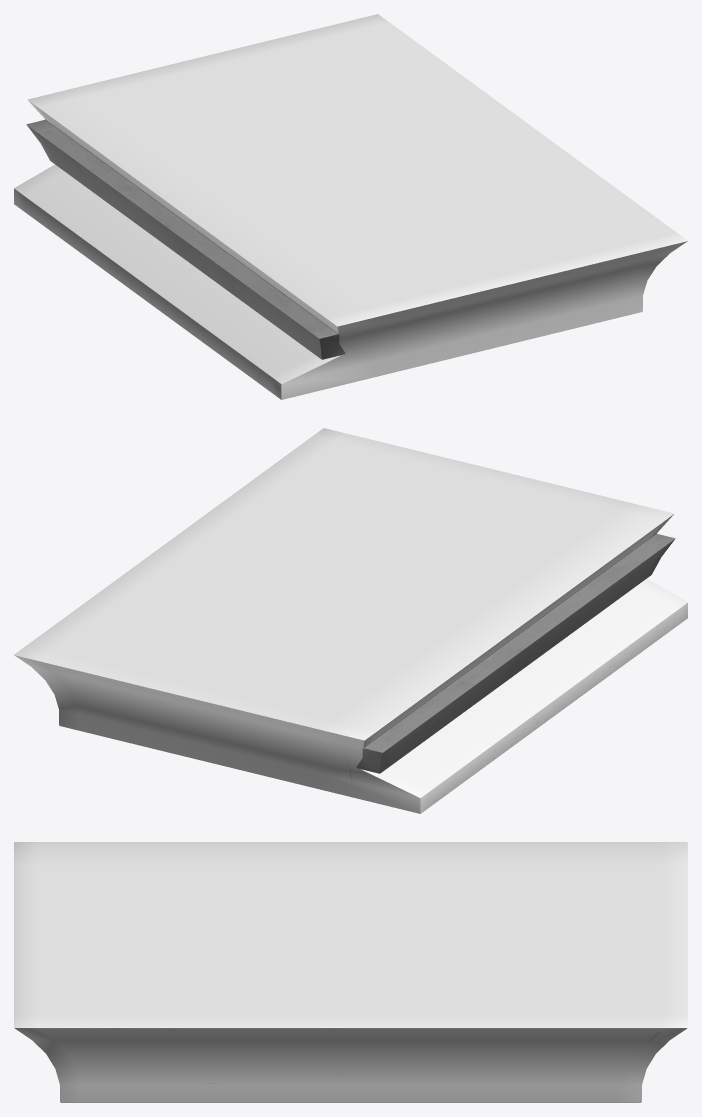
Rendered from oven vent.fbx.
The picture shows the model from 3 angles, top to bottom: view 1: azimuth 30°, elevation 25°; view 2: azimuth 150°, elevation 25°; view 3: azimuth 270°, elevation 25°; orthographic projection. The views are drawn at different scales.
Parts seen in each view (by area): view 1: vent; view 2: vent; view 3: vent.
Part boxes in pixels (<box>): vent: <box>14,14,687,399</box>; vent: <box>14,428,687,813</box>; vent: <box>14,842,687,1102</box>.
Bounding box in the file's own units: 125 × 27.29 × 174.
